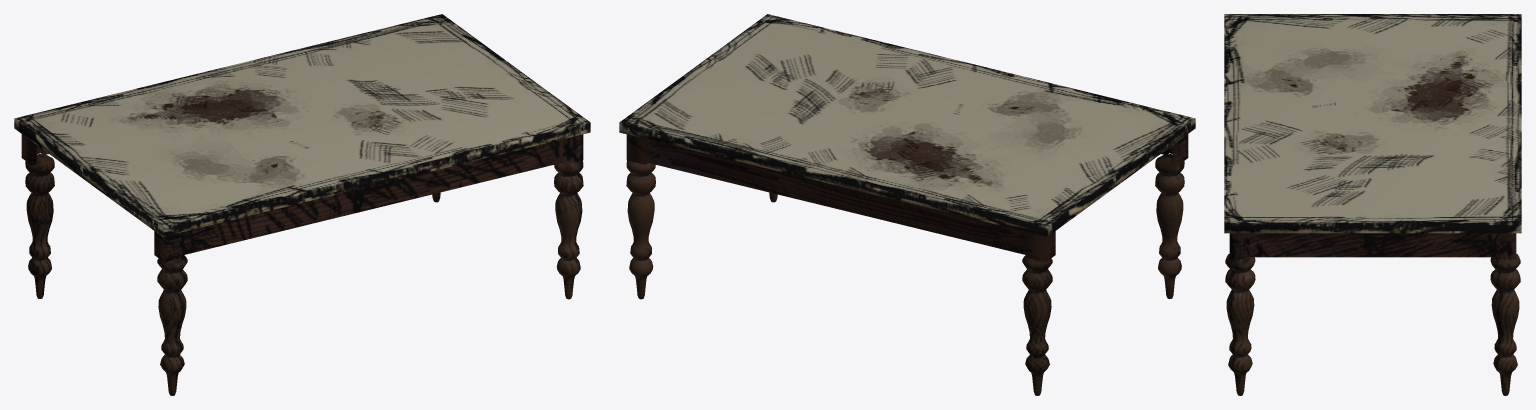
Rendered from table.fbx.
The picture shows the model from 3 angles, left to right: view 1: azimuth 30°, elevation 25°; view 2: azimuth 150°, elevation 25°; view 3: azimuth 270°, elevation 25°; orthographic projection.
Parts seen in each view (by area): view 1: Strove.003; view 2: Strove.003; view 3: Strove.003.
Boxes of the visible parts, bbox=[...] form: Strove.003: bbox=[14, 14, 590, 395]; Strove.003: bbox=[619, 14, 1195, 395]; Strove.003: bbox=[1224, 14, 1521, 395].
Size of the model in its own units: 165 by 65.96 by 98.94.
1 material, 1 textured.
